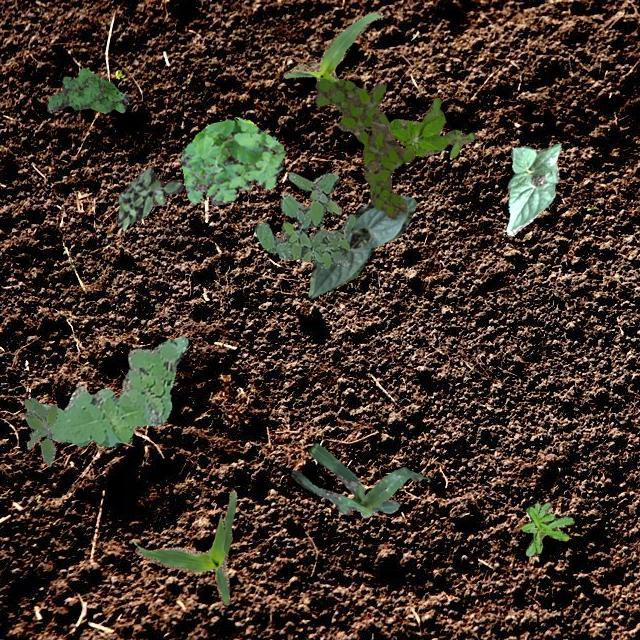crop: (134, 488, 235, 604), (308, 195, 416, 298), (290, 442, 426, 516), (282, 10, 382, 80), (504, 143, 560, 235)
weed: (42, 336, 186, 446), (314, 78, 414, 218), (253, 172, 354, 268), (180, 116, 284, 204), (388, 96, 476, 156), (116, 166, 182, 230), (46, 67, 128, 111), (520, 500, 572, 554), (24, 396, 56, 466)
